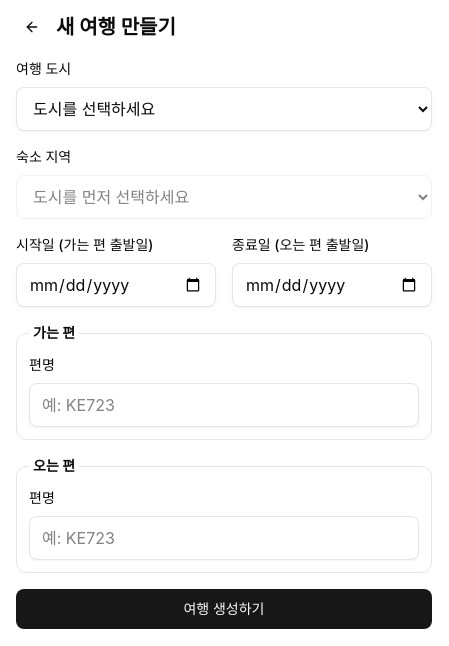
Test case: TripCreatePage › normalizes spaces and case while typing
The width and height of the screenshot is (449, 646).
Type "ke 723" into the 1st field labelled "편명". click: (224, 405)
box: [29,383,419,427]
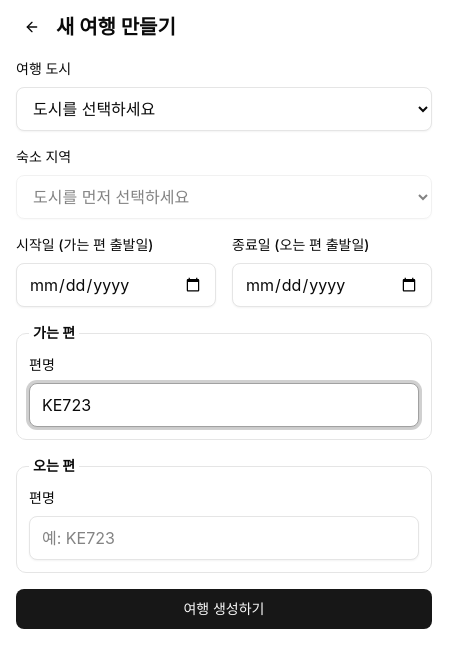
Now the 1st field labelled "편명" holds "KE723", box [29,383,419,427]
